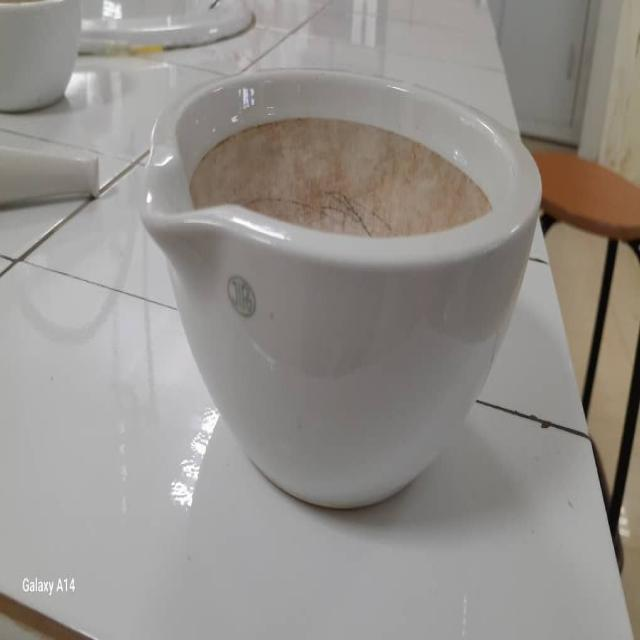Mortar and Pestle: (141, 87, 542, 513)
